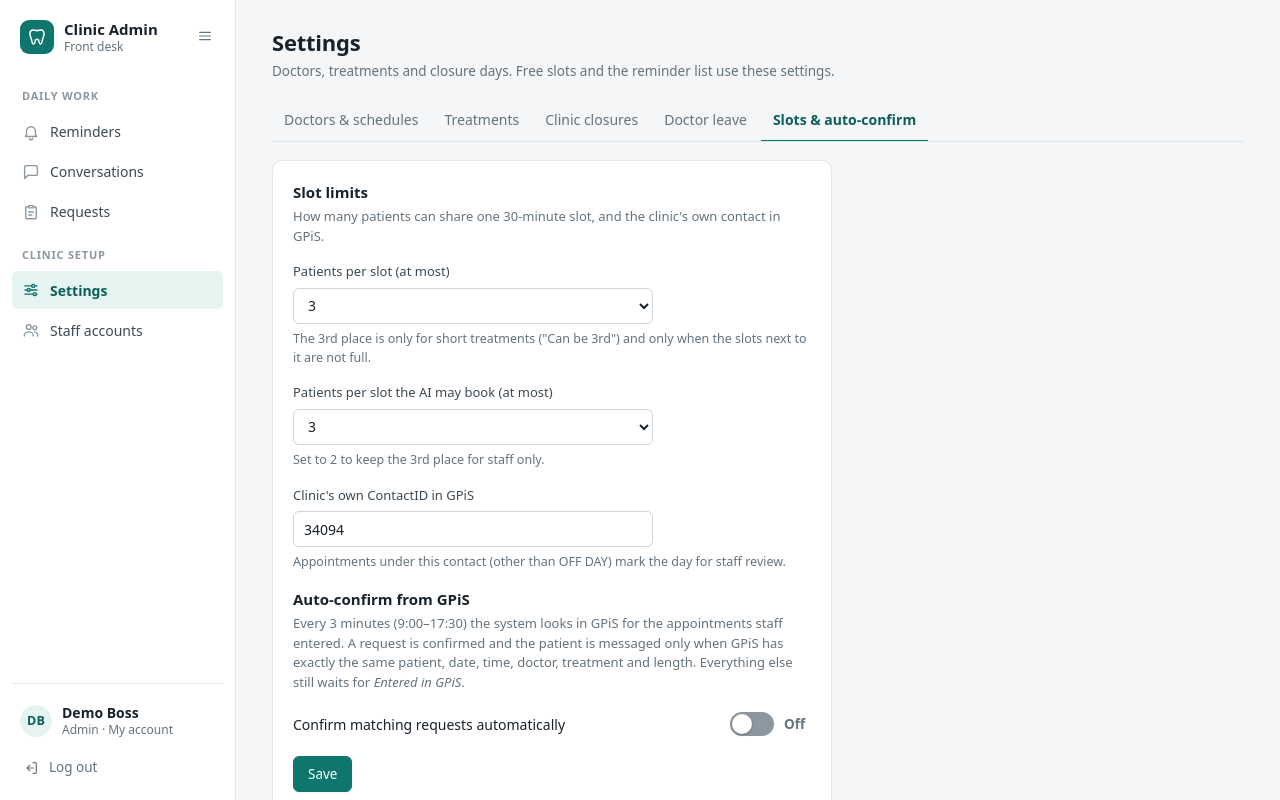
auto-confirm (D71 ②) › only ADMIN can switch it on in Settings
Expected: the text "Off" is shown, [784,715,805,733]
Expected: the text "Off by default" is not shown
Click the switch labelled "Confirm matching requests automatically".
click(552, 724)  # box [293,708,811,740]
(page scrolled)
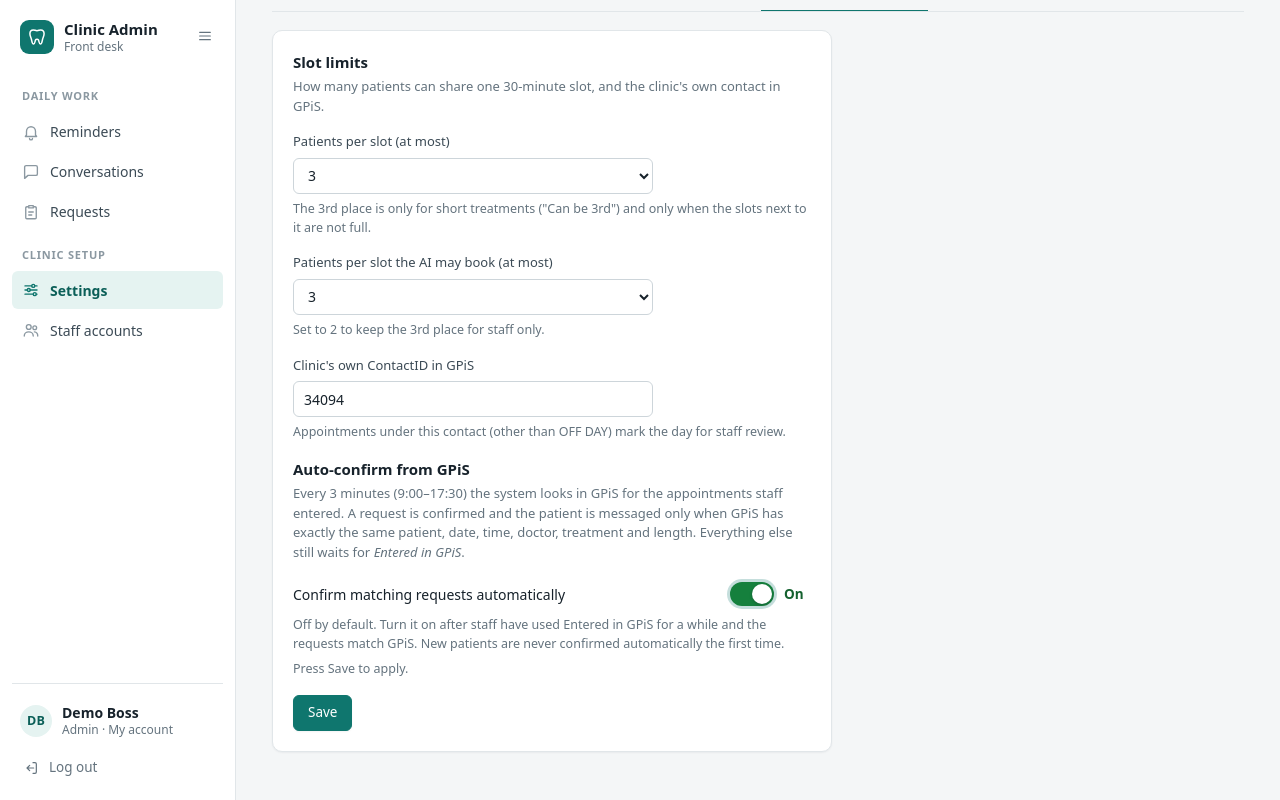
Result: the text "On" is shown at [784,585,804,603]
Result: the text "Off by default" is shown at [293,616,784,652]
Result: the text "Press Save to apply." is shown at [293,660,408,679]
Click the button "Save".
click(323, 713)  # box [293,695,352,731]
(page scrolled)
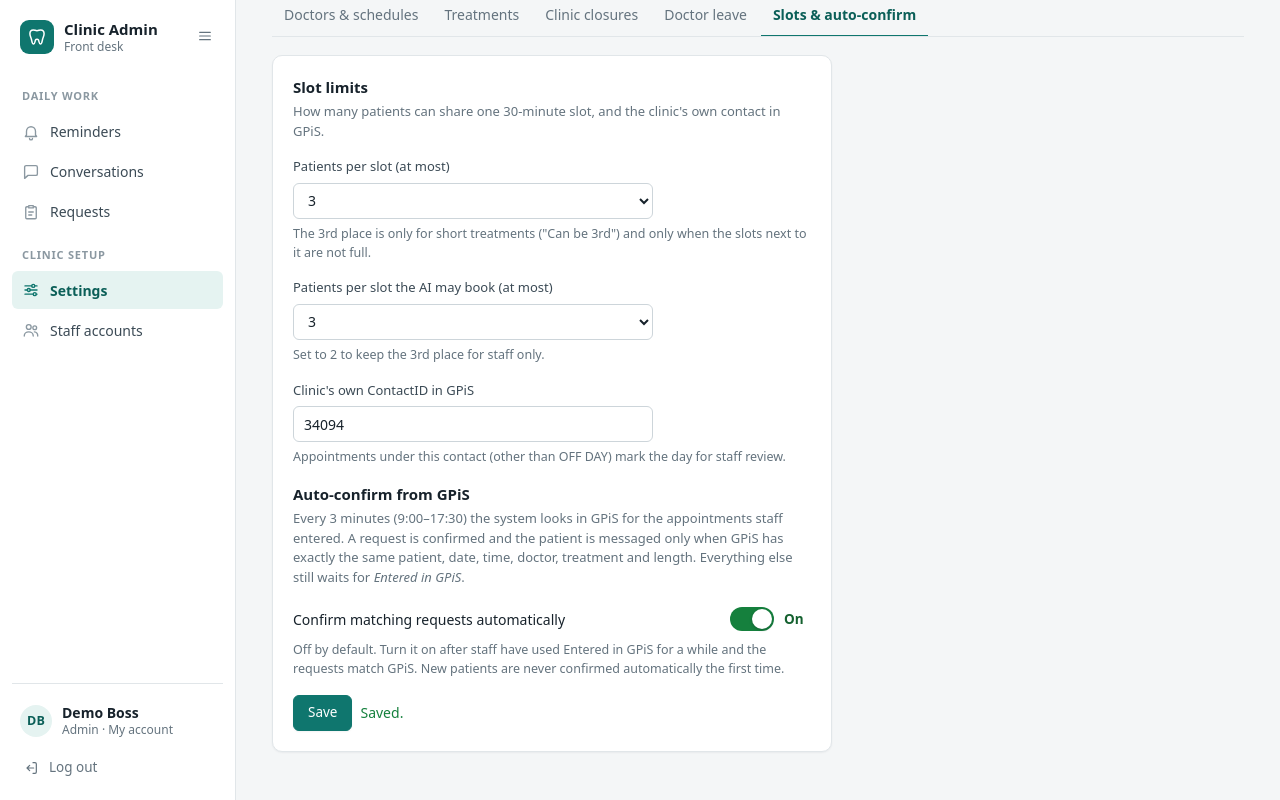
Result: the text "Saved." is shown at [360,702,403,723]
Result: the text "Press Save to apply." is gone
Note: 拨回关、还没 Save：说明不见了，但还是提醒要 Save
Click the switch labelled "Confirm matching requests automatically".
click(552, 619)  # box [293,603,811,635]
(page scrolled)
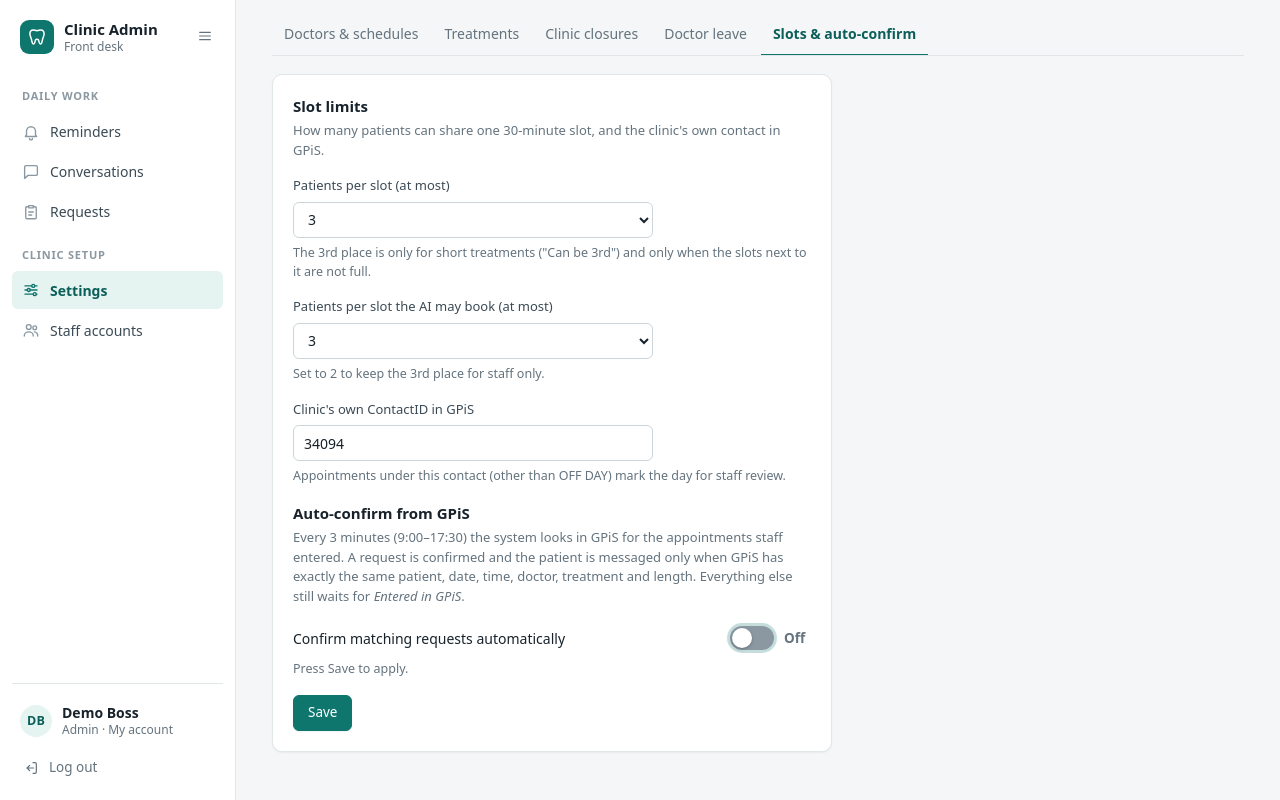
Result: the text "Off by default" is gone
Result: the text "Press Save to apply." is shown at [293,660,408,679]
